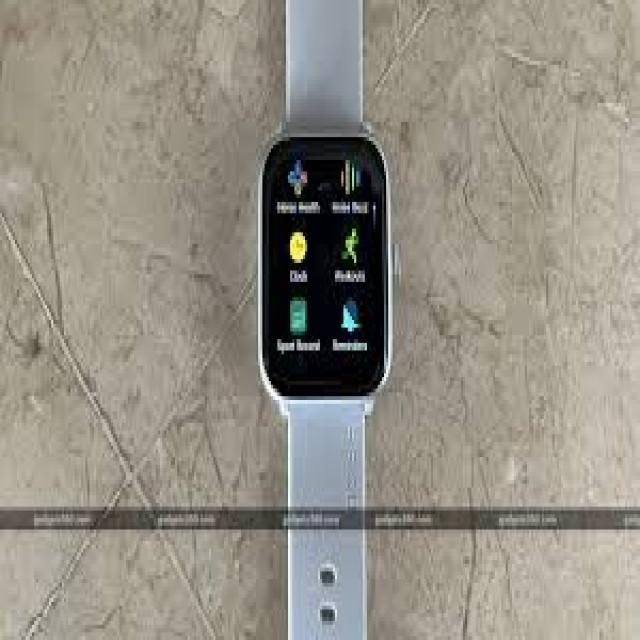objects: (258, 0, 390, 636)
